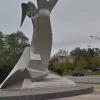Statue: (13, 2, 61, 77)
